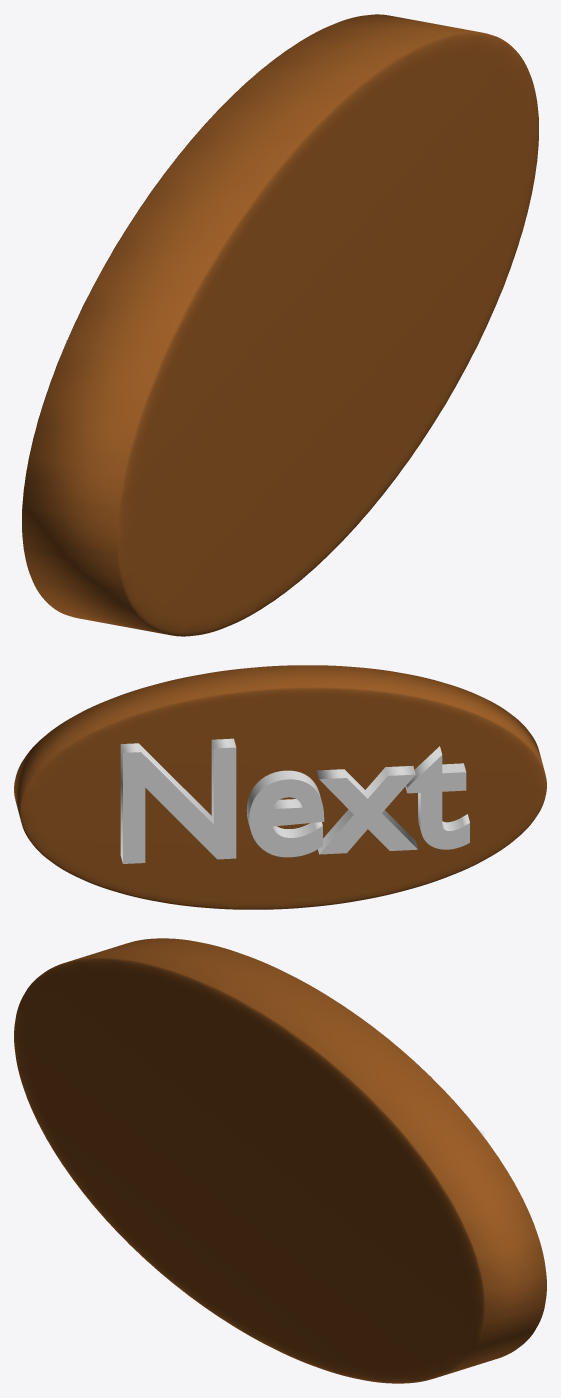
Rendered from next.glb.
3 renders of one model, top to bottom at view 1: azimuth 30°, elevation 25°; view 2: azimuth 150°, elevation 25°; view 3: azimuth 270°, elevation 25°, orthographic. The views are drawn at different scales.
Visible parts, largest first — view 1: Cylinder; view 2: Cylinder, Text; view 3: Cylinder.
Boxes of the visible parts, bbox=[...] form: Cylinder: bbox=[22, 14, 538, 636]; Cylinder: bbox=[14, 665, 546, 909]; Text: bbox=[120, 738, 469, 863]; Cylinder: bbox=[14, 938, 546, 1383].
Size of the model in its own units: 1.95 by 1.04 by 1.53.
